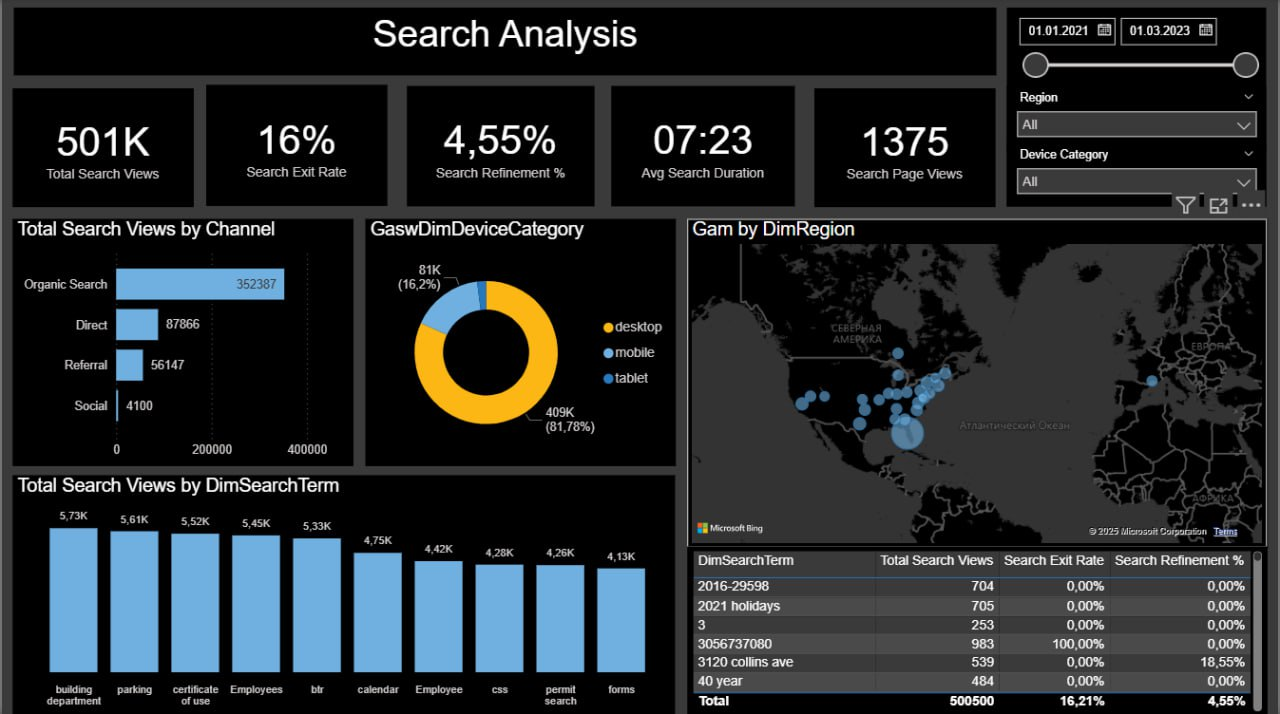

Layout of this report page (visuals, bound fields, positions):
{"tool":"powerbi","page":{"name":"Search Analysis","canvas":[1280,720],"ordinal":1},"visuals":[{"type":"textbox","box":[11.3,9.9,985,68],"z":0},{"type":"textbox","box":[1007.6,9.7,260.2,199.3],"z":1000},{"type":"slicer","fields":{"Values":["Region.DimRegion"]},"box":[1007.6,88.6,260.2,66.4],"z":2000},{"type":"slicer","fields":{"Values":["vwDates.FullDate"]},"box":[1007.6,9.7,260.2,77.5],"z":3000},{"type":"slicer","fields":{"Values":["Device.DimDeviceCategory"]},"box":[1007.6,145.3,260.2,63.7],"z":4000},{"type":"card","fields":{"Values":["Fact_GA_Search.Total Search Views"]},"box":[11.1,90,181.3,119],"z":5000},{"type":"card","fields":{"Values":["Fact_GA_Search.Search Exit Rate"]},"box":[204.8,87.2,181.3,121.8],"z":6000},{"type":"card","fields":{"Values":["Fact_GA_Search.Search Refinement %"]},"box":[405.5,88.6,188.2,120.4],"z":7000},{"type":"card","fields":{"Values":["Fact_GA_Search.Avg Search Duration"]},"box":[610.4,88.6,184.1,120.4],"z":8000},{"type":"card","fields":{"Values":["Fact_GA_Search.Search Page Views"]},"box":[813.8,90,181.3,119],"z":9000},{"type":"donutChart","title":"GaswDimDeviceCategory","fields":{"Y":["Fact_GA_Search.Total Search Views"],"Category":["Device.DimDeviceCategory"]},"box":[364,221.5,311.4,247.8],"z":12000},{"type":"map","title":"Gam by DimRegion","fields":{"Size":["Fact_GA_Search.Total Search Views"],"Category":["Region.DimRegion"]},"box":[686.5,221.5,581.3,329.4],"z":15000},{"type":"barChart","fields":{"Category":["Channel.DimChannel"],"Y":["Fact_GA_Search.Total Search Views"]},"box":[11.1,221.5,341.9,247.8],"z":18000},{"type":"clusteredColumnChart","fields":{"Y":["Fact_GA_Search.Total Search Views"],"Category":["Fact_GA_Search.DimSearchTerm"]},"box":[11.1,478.9,664.4,240.8],"z":25000},{"type":"tableEx","fields":{"Values":["Fact_GA_Search.DimSearchTerm","Fact_GA_Search.Total Search Views","Fact_GA_Search.Search Exit Rate","Fact_GA_Search.Search Refinement %"]},"box":[686.5,549.5,581.3,170.2],"z":26000}]}

Visuals, with their boxes in screenshot pixels (x1, y1, x2, y2), scaled from the page's 1280x720 canvas onto the 1280x714 screenshot:
textbox: bbox=[11, 10, 996, 77]
textbox: bbox=[1008, 10, 1268, 207]
slicer - Region.DimRegion: bbox=[1008, 88, 1268, 154]
slicer - vwDates.FullDate: bbox=[1008, 10, 1268, 86]
slicer - Device.DimDeviceCategory: bbox=[1008, 144, 1268, 207]
card - Fact_GA_Search.Total Search Views: bbox=[11, 89, 192, 207]
card - Fact_GA_Search.Search Exit Rate: bbox=[205, 86, 386, 207]
card - Fact_GA_Search.Search Refinement %: bbox=[406, 88, 594, 207]
card - Fact_GA_Search.Avg Search Duration: bbox=[610, 88, 794, 207]
card - Fact_GA_Search.Search Page Views: bbox=[814, 89, 995, 207]
"GaswDimDeviceCategory" donutChart: bbox=[364, 220, 675, 465]
"Gam by DimRegion" map: bbox=[686, 220, 1268, 546]
barChart - Channel.DimChannel x Fact_GA_Search.Total Search Views: bbox=[11, 220, 353, 465]
clusteredColumnChart - Fact_GA_Search.Total Search Views x Fact_GA_Search.DimSearchTerm: bbox=[11, 475, 676, 713]
tableEx - Fact_GA_Search.DimSearchTerm x Fact_GA_Search.Total Search Views: bbox=[686, 545, 1268, 713]
